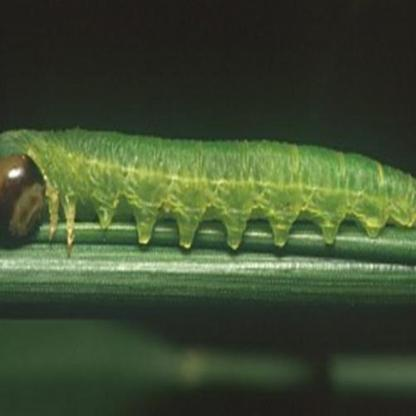sawfly: (0, 98, 416, 264)
